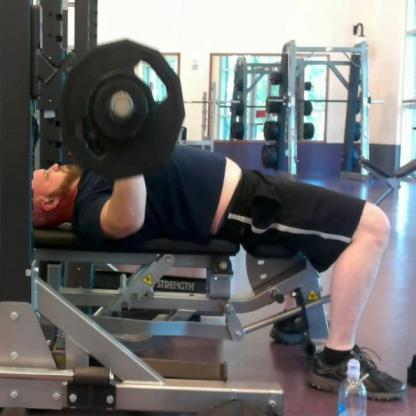barbell: (62, 40, 186, 180)
